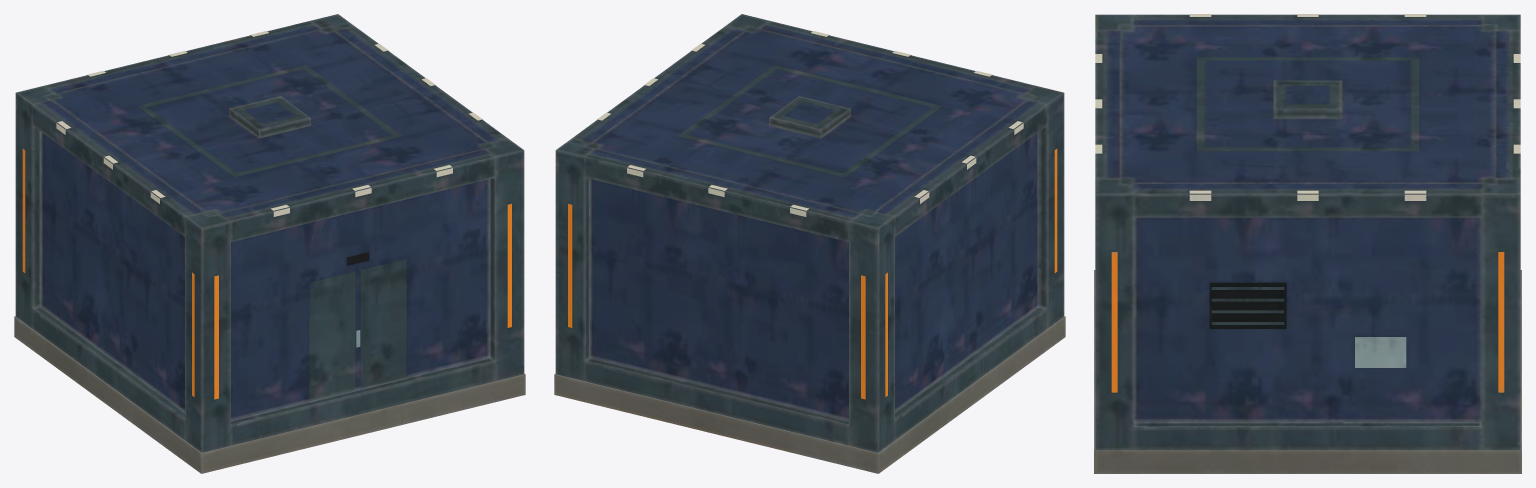
The model's file is hull_reinforced_closed.glb.
3 views of the same model, side by side, from view 1: azimuth 30°, elevation 25°; view 2: azimuth 150°, elevation 25°; view 3: azimuth 270°, elevation 25° (orthographic). The views are drawn at different scales.
Visible parts, largest first — view 1: te_hull_reinforced_closed; view 2: te_hull_reinforced_closed; view 3: te_hull_reinforced_closed.
Part boxes in pixels (x1,y1,x2,y2): te_hull_reinforced_closed: (14,14,525,473); te_hull_reinforced_closed: (554,14,1065,473); te_hull_reinforced_closed: (1094,14,1521,473).
Bounding box in the file's own units: 1 × 0.7446 × 1.
1 material, 1 textured.
